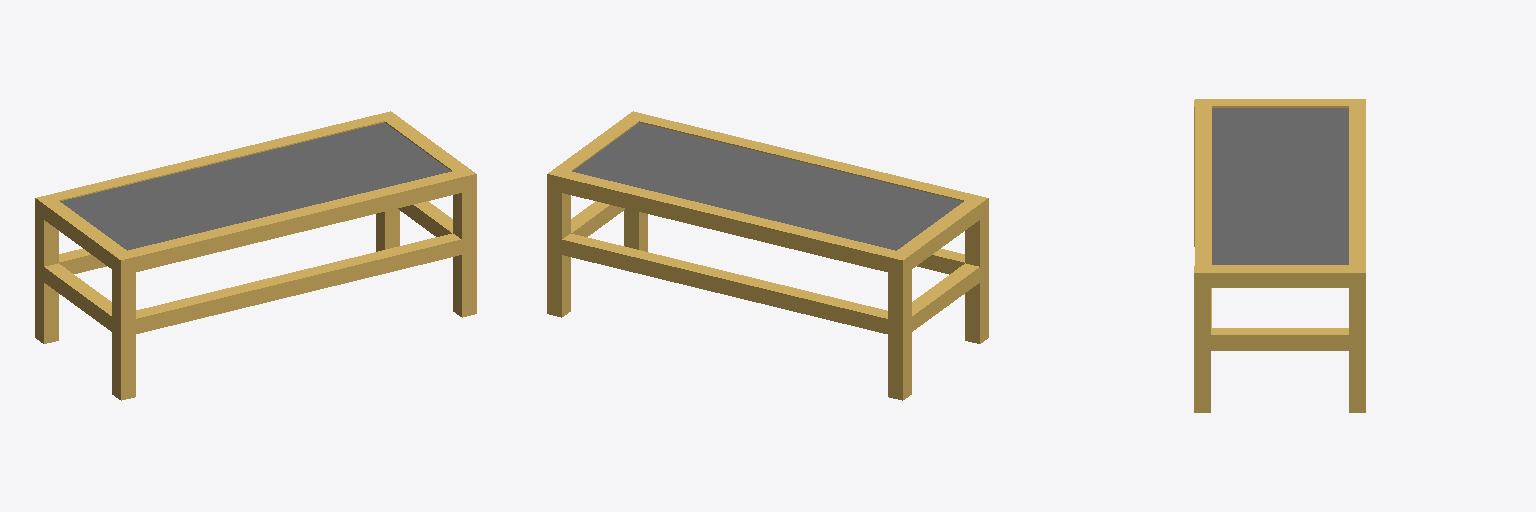
The model's file is coffeetable.obj.
3 views of the same model, side by side, from view 1: azimuth 30°, elevation 25°; view 2: azimuth 150°, elevation 25°; view 3: azimuth 270°, elevation 25° (orthographic).
Visible parts, largest first — view 1: sweethome3d_window_pane_9, Cube_2_1_10, Cube_2_2_8, Cube_3_1, Cube_2_2, Cube_3_1_13, Cube_3_3_11, Cube_1_4, Cube_1_3_3, Cube_1_1_6, Cube_1_2_5, Cube_3_2_12 (+1 smaller); view 2: sweethome3d_window_pane_9, Cube_2_2, Cube_2_3_7, Cube_3_3_11, Cube_2_1_10, Cube_3_2_12, Cube_3_1, Cube_1_4, Cube_1_3_3, Cube_1_1_6, Cube_1_2_5, Cube_3_1_13 (+1 smaller); view 3: sweethome3d_window_pane_9, Cube_1_1_6, Cube_1_2_5, Cube_2_2, Cube_2_1_10, Cube_3_1_13, Cube_3_2_12, Cube_1_4.
Part boxes in pixels (x1,y1,x2,y2): sweethome3d_window_pane_9: (60,122,451,250); Cube_2_1_10: (128,171,461,271); Cube_2_2_8: (136,233,461,333); Cube_3_1: (112,255,135,400); Cube_2_2: (50,115,384,200); Cube_3_1_13: (453,174,476,317); Cube_3_3_11: (35,199,58,343); Cube_1_4: (35,195,135,274); Cube_1_3_3: (36,261,120,336); Cube_1_1_6: (377,111,475,177); Cube_1_2_5: (398,201,452,236); Cube_3_2_12: (376,209,399,251); sweethome3d_window_pane_9: (572,123,962,250); Cube_2_2: (562,171,895,271); Cube_2_3_7: (562,234,887,333); Cube_3_3_11: (888,255,911,400); Cube_2_1_10: (639,115,973,201); Cube_3_2_12: (547,174,570,317); Cube_3_1: (965,199,988,343); Cube_1_4: (888,195,988,272); Cube_1_3_3: (903,263,984,337); Cube_1_1_6: (548,111,646,177); Cube_1_2_5: (571,201,624,236); Cube_3_1_13: (624,209,647,251); sweethome3d_window_pane_9: (1212,108,1348,264); Cube_1_1_6: (1195,265,1365,287); Cube_1_2_5: (1195,328,1365,350); Cube_2_2: (1349,106,1365,264); Cube_2_1_10: (1195,106,1211,264); Cube_3_1_13: (1194,266,1210,412); Cube_3_2_12: (1349,273,1365,412); Cube_1_4: (1195,99,1365,107).
Bounding box in the file's own units: 117 × 44.13 × 48.9.